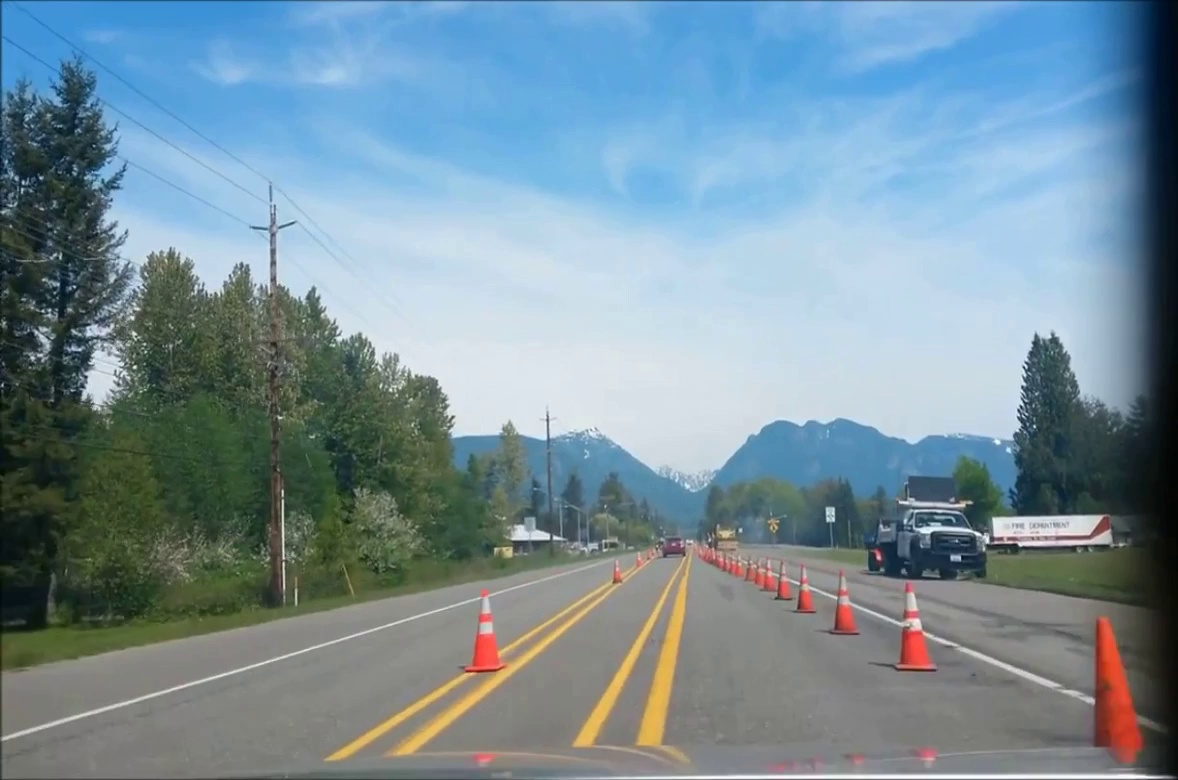Cone: (1088, 614, 1141, 745), (464, 588, 508, 671), (895, 578, 931, 671), (834, 566, 858, 634), (794, 564, 818, 613)
